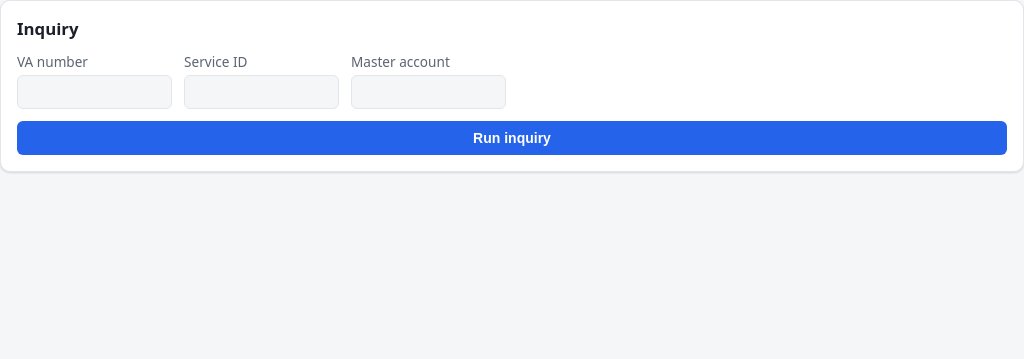
it: InquiryPanel › submits the VA number and shows a payable summary on ACTIVE
The width and height of the screenshot is (1024, 359).
Type "VA123" into the field labelled "VA number".
click(94, 92); type("VA123")  # box x1=17 y1=75 x2=172 y2=109
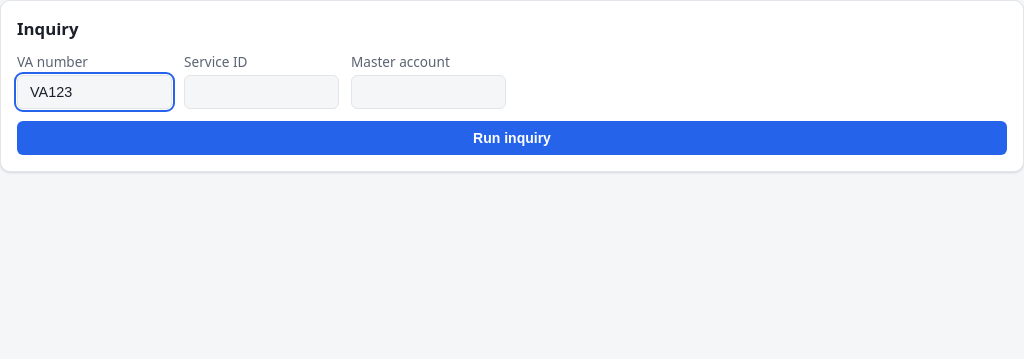
Click the button "Run inquiry".
click(512, 138)  # box x1=17 y1=121 x2=1007 y2=155
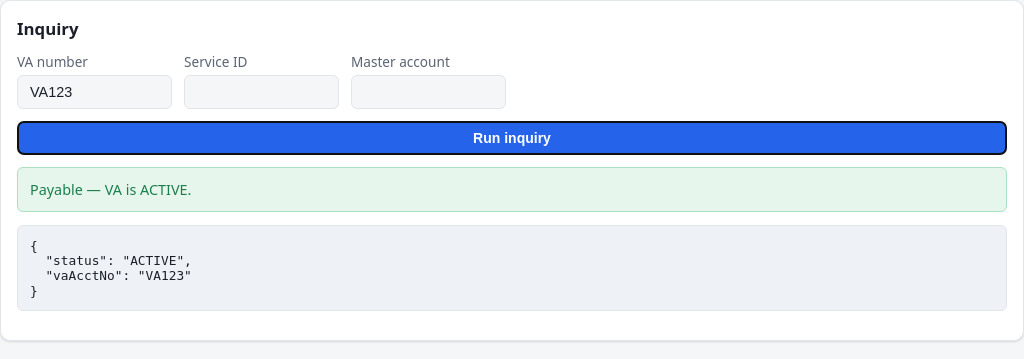
Now the text with test id "inquiry-summary" shows "Payable", box x1=30 y1=180 x2=192 y2=199
